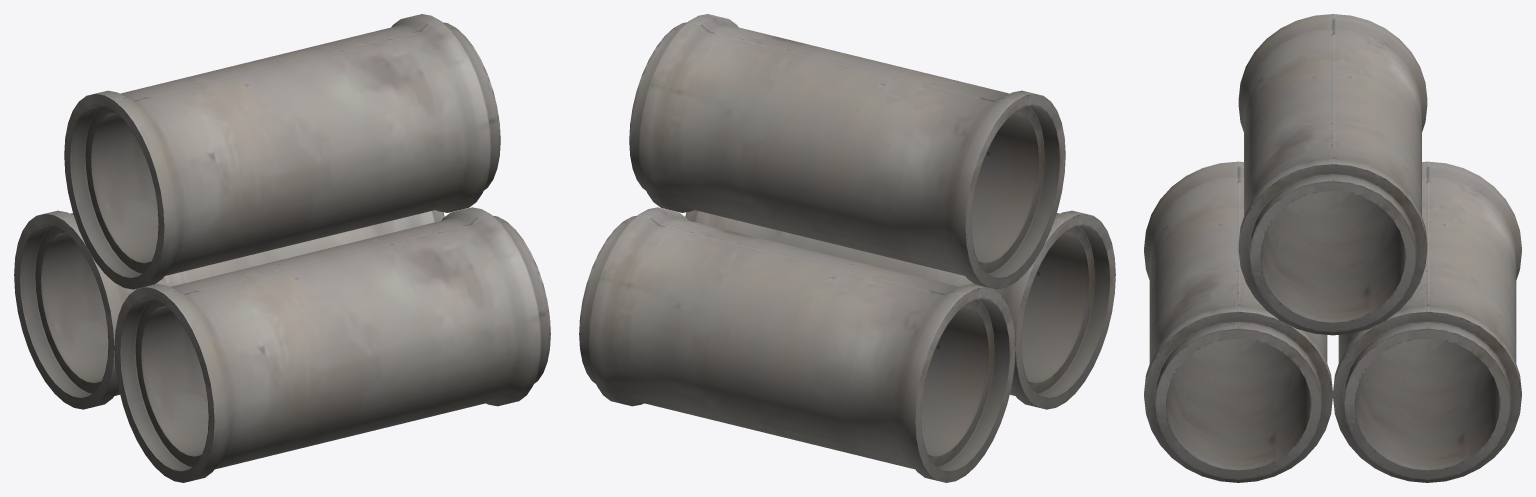
The picture shows the model from 3 angles, left to right: view 1: azimuth 30°, elevation 25°; view 2: azimuth 150°, elevation 25°; view 3: azimuth 270°, elevation 25°; orthographic projection. The views are drawn at different scales.
Parts seen in each view (by area): view 1: body0_model0_lod0_mesh0; view 2: body0_model0_lod0_mesh0; view 3: body0_model0_lod0_mesh0.
Part boxes in pixels (left/top/right/bottom): body0_model0_lod0_mesh0: left=14, top=14, right=550, bottom=482; body0_model0_lod0_mesh0: left=579, top=14, right=1115, bottom=482; body0_model0_lod0_mesh0: left=1144, top=14, right=1521, bottom=482.
Size of the model in its own units: 134 by 127 by 136.
1 material, 1 textured.
